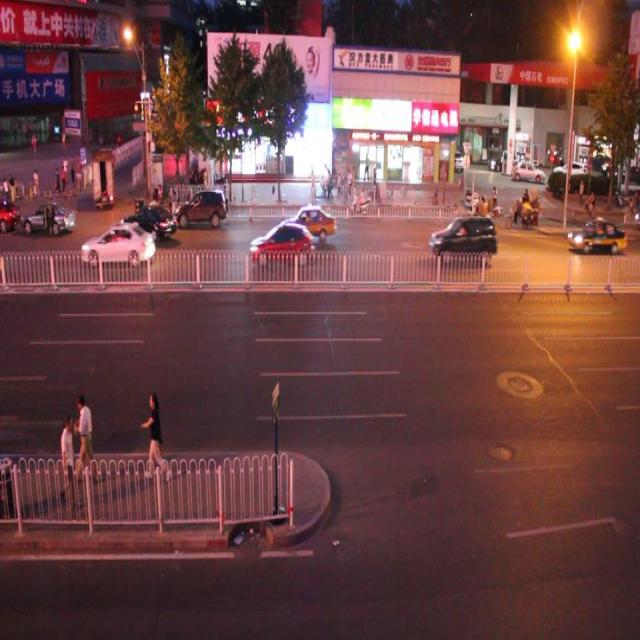bus: (91, 146, 117, 206)
car: (428, 212, 496, 266), (81, 220, 156, 267), (248, 223, 314, 264), (174, 190, 228, 236), (20, 196, 77, 238), (280, 202, 337, 242), (565, 217, 626, 254), (122, 200, 175, 242)
